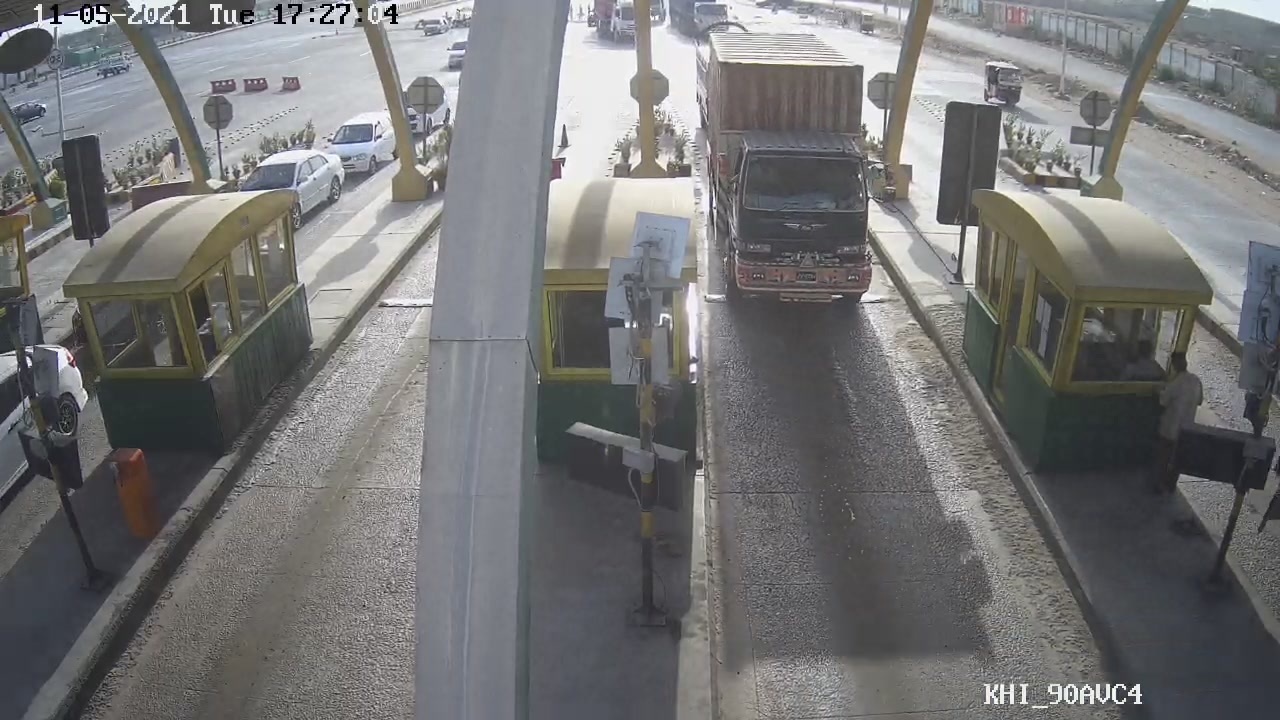F6: (693, 35, 892, 307)
